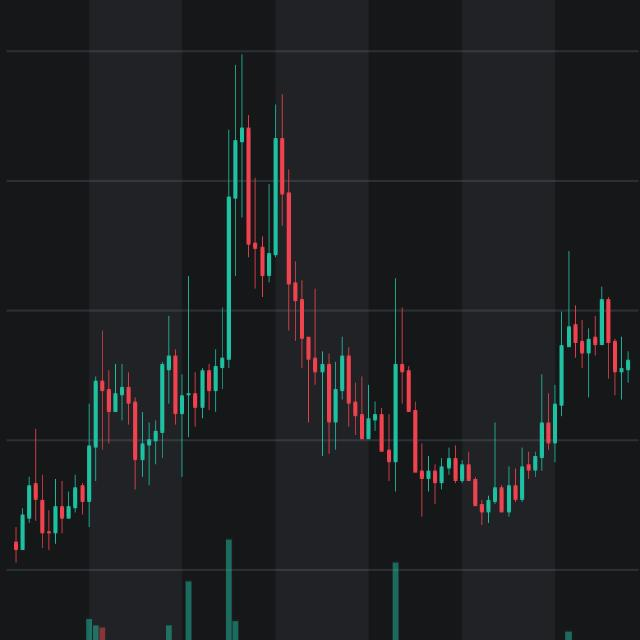Falling-Wedge: (181, 34, 492, 572)
